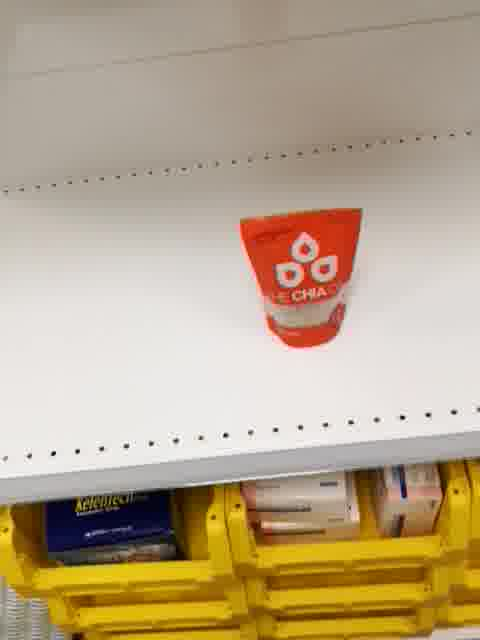whitechia: (240, 206, 363, 351)
